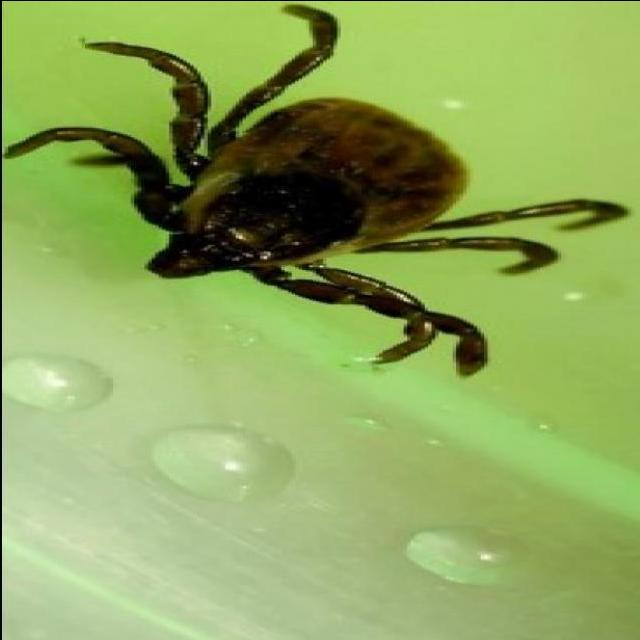Rhipicephalus Sanguineus-F: (0, 3, 626, 379)
